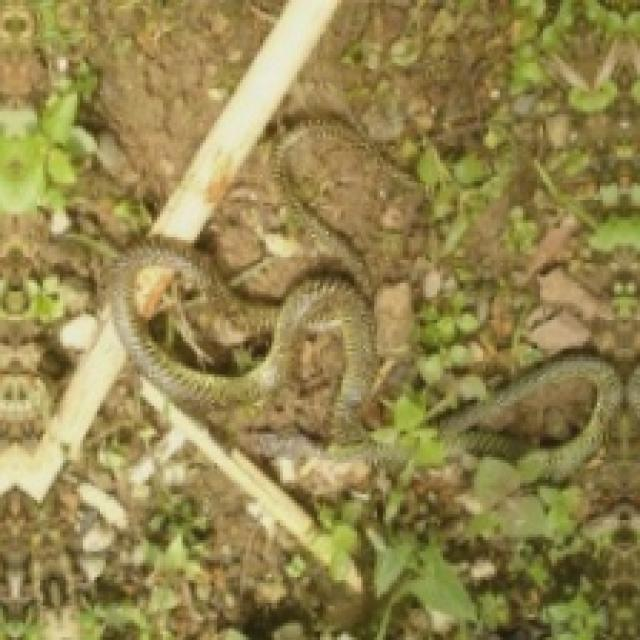paradise tree snake: (114, 86, 637, 637), (114, 240, 377, 491), (440, 357, 617, 500)
